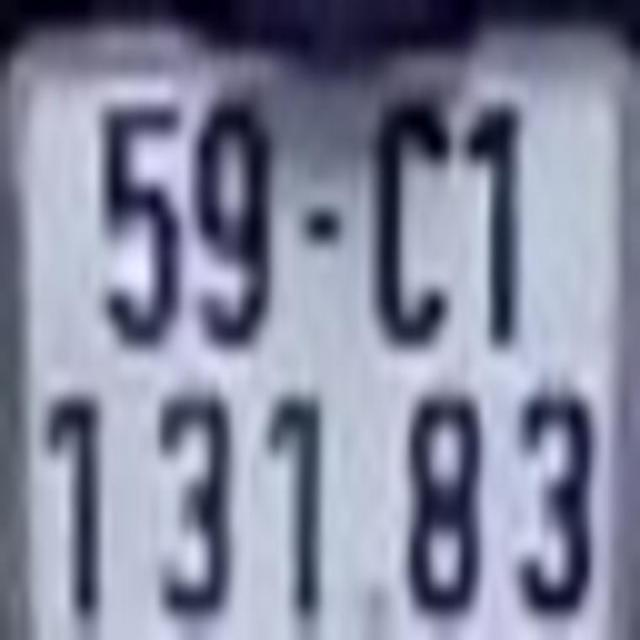1: (264, 391, 330, 626), (43, 397, 109, 618), (465, 102, 517, 352)
3: (155, 386, 232, 617), (521, 390, 592, 614)
5: (101, 103, 183, 347)
8: (408, 388, 483, 614)
9: (192, 104, 268, 342)
C: (372, 102, 450, 350)
